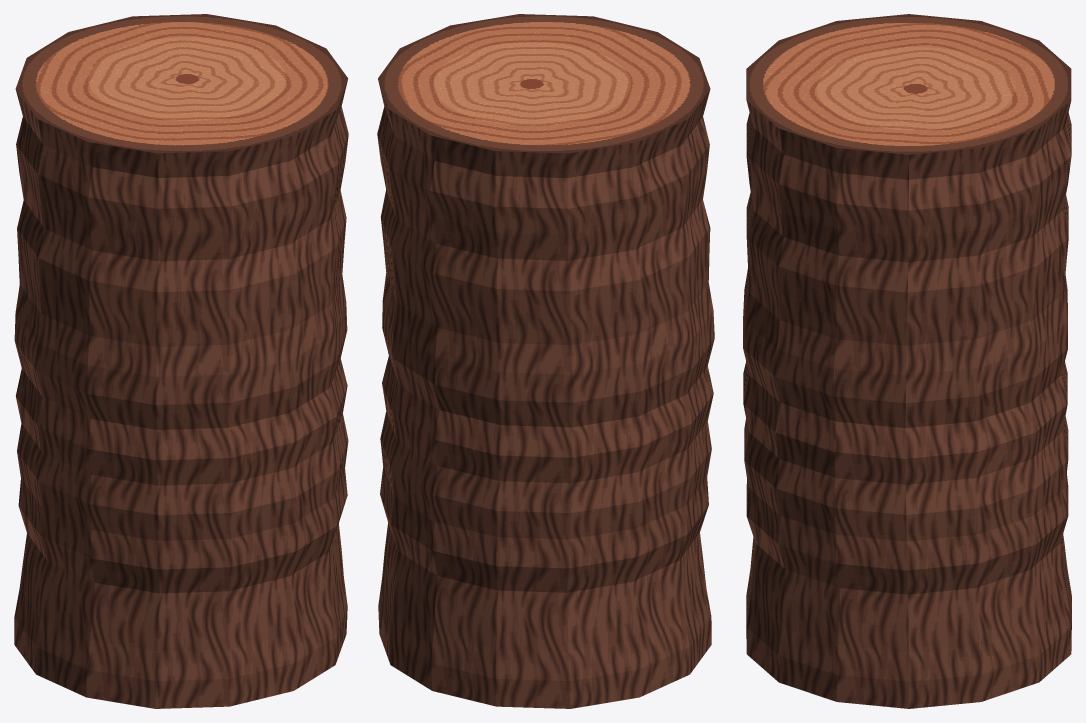
Rendered from environment_redwood5_loghalf_v2.fbx.
3 renders of one model, left to right at view 1: azimuth 30°, elevation 25°; view 2: azimuth 150°, elevation 25°; view 3: azimuth 270°, elevation 25°, orthographic.
Parts seen in each view (by area): view 1: environment_redwood5_loghalf_v2; view 2: environment_redwood5_loghalf_v2; view 3: environment_redwood5_loghalf_v2.
Part boxes in pixels (x1=…): environment_redwood5_loghalf_v2: x1=14, y1=14, x2=348, y2=708; environment_redwood5_loghalf_v2: x1=377, y1=14, x2=714, y2=708; environment_redwood5_loghalf_v2: x1=743, y1=14, x2=1071, y2=708.
Size of the model in its own units: 551 by 1000 by 537.
